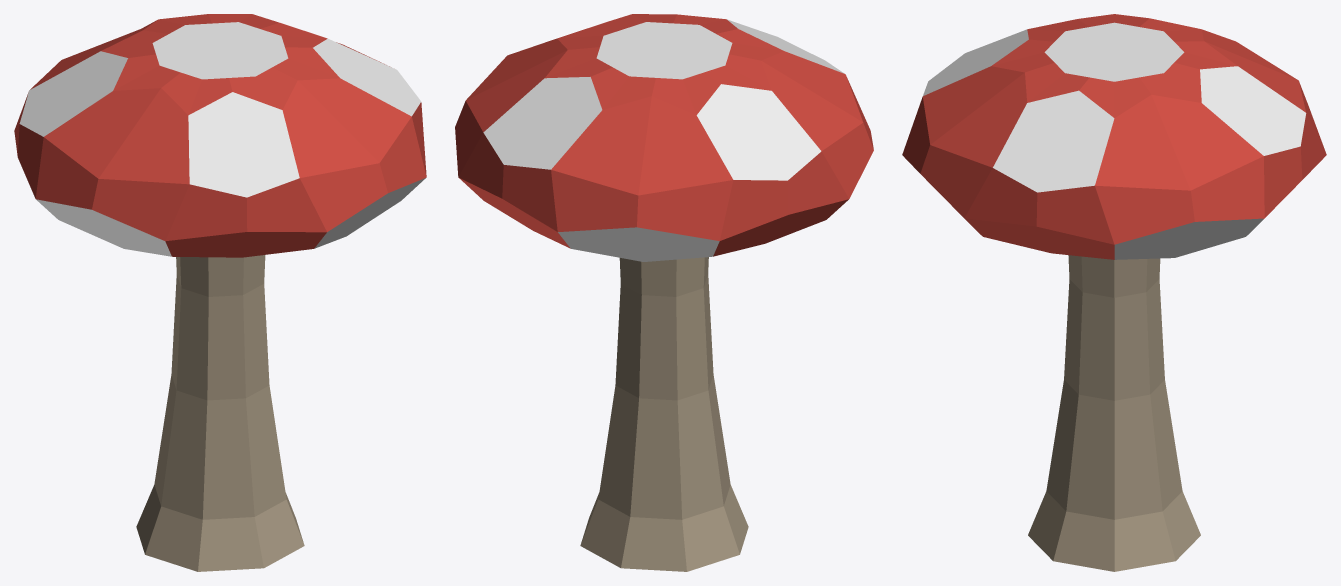
Rendered from mushroom.glb.
3 views of the same model, side by side, from view 1: azimuth 30°, elevation 25°; view 2: azimuth 150°, elevation 25°; view 3: azimuth 270°, elevation 25° (orthographic).
Visible parts, largest first — view 1: Cylinder-col; view 2: Cylinder-col; view 3: Cylinder-col.
Part boxes in pixels (box(x1,y1,x2,y2)): Cylinder-col: box(14, 14, 426, 571); Cylinder-col: box(455, 14, 873, 571); Cylinder-col: box(902, 14, 1326, 571).
Size of the model in its own units: 2.92 by 3.67 by 2.92.
